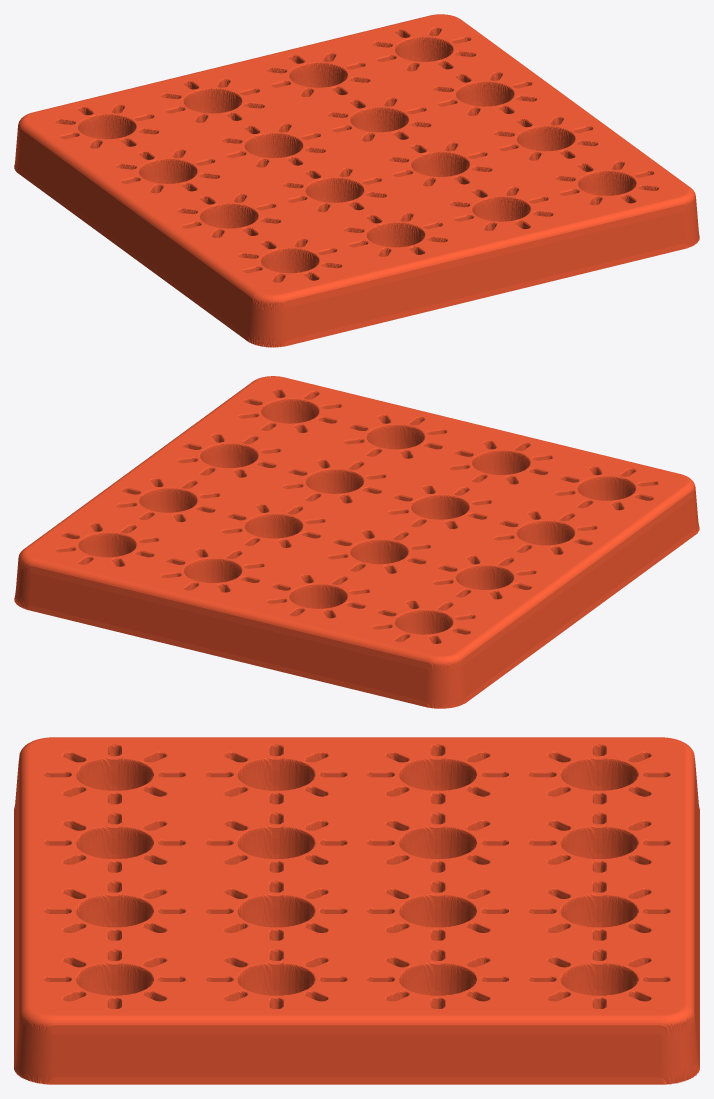
Rendered from mold.glb.
3 renders of one model, top to bottom at view 1: azimuth 30°, elevation 25°; view 2: azimuth 150°, elevation 25°; view 3: azimuth 270°, elevation 25°, orthographic. The views are drawn at different scales.
Visible parts, largest first — view 1: geometry_0; view 2: geometry_0; view 3: geometry_0.
Boxes of the visible parts, x1,y1,x2,y2 form: geometry_0: (14, 14, 699, 347); geometry_0: (14, 376, 699, 708); geometry_0: (14, 737, 699, 1084).
Size of the model in its own units: 0.1569 by 0.0159 by 0.1569.
